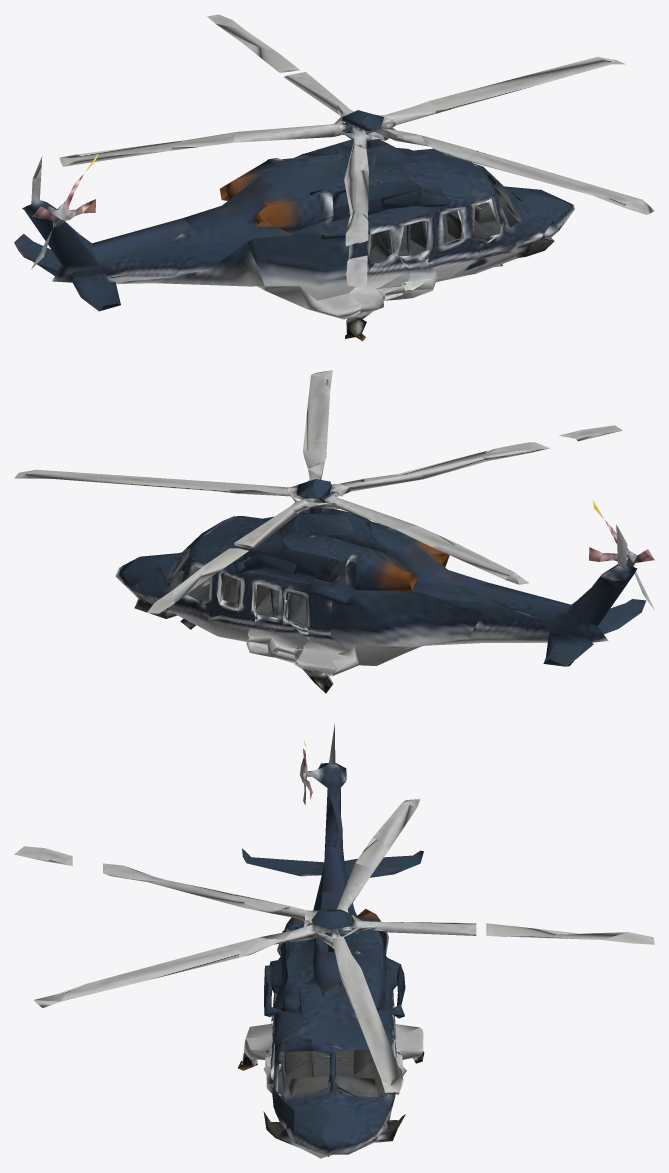
The model's file is helicopter_lod2.glb.
3 views of the same model, one above another, from view 1: azimuth 30°, elevation 25°; view 2: azimuth 150°, elevation 25°; view 3: azimuth 270°, elevation 25° (orthographic). The views are drawn at different scales.
Parts seen in each view (by area): view 1: tripo_node_1a1779c4-9604-41cc-9ce4-dbd221ecb575; view 2: tripo_node_1a1779c4-9604-41cc-9ce4-dbd221ecb575; view 3: tripo_node_1a1779c4-9604-41cc-9ce4-dbd221ecb575.
Boxes of the visible parts, x1,y1,x2,y2 form: tripo_node_1a1779c4-9604-41cc-9ce4-dbd221ecb575: (14,14,654,341); tripo_node_1a1779c4-9604-41cc-9ce4-dbd221ecb575: (14,370,654,693); tripo_node_1a1779c4-9604-41cc-9ce4-dbd221ecb575: (14,724,654,1158).
Bounding box in the file's own units: 0.9825 × 0.3299 × 0.8645.
Materials: 1 (1 with a texture image).
